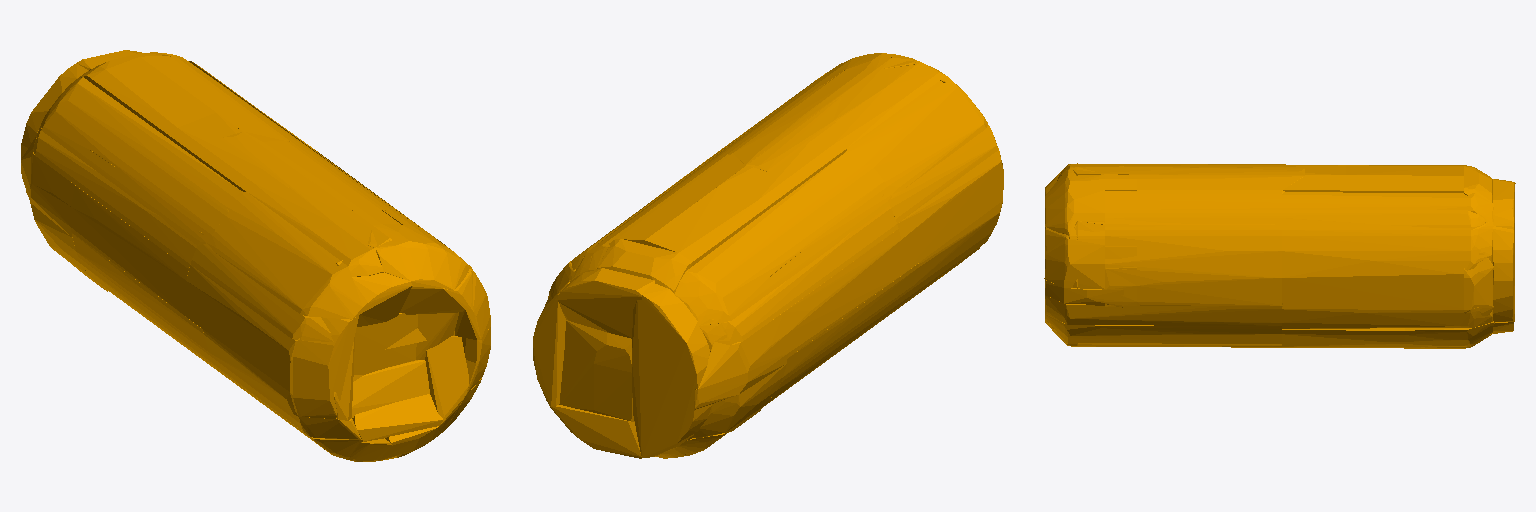
The robot description file, URDF, robot "can-monster":
<?xml version="1.0" ?>
<robot name="can-monster">
  <link name="baseLink">
    <contact>
      <lateral_friction value="1.0"/>
      <inertia_scaling value="3.0"/>
    </contact>
    <inertial>
      <origin rpy="0 0 0" xyz="0.000 0.000 0.000"/>
       <mass value=".1"/>
       <inertia ixx="1" ixy="0.0" ixz="0.0" iyy="1" iyz="0.0" izz="1"/>
    </inertial>
    <visual>
      <origin rpy="0 0 0" xyz="0 0 0"/>
      <geometry>
        <mesh filename="can/can-monster_blue.obj" scale="1.0 1.0 1.0"/>
      </geometry>
    </visual>
    <collision>
      <origin rpy="0 0 0" xyz="0 0 0"/>
      <geometry>
        <mesh filename="../collision/can/can-monster_blue.obj" scale="1.0 1.0 1.0"/>
      </geometry>
    </collision>
  </link>
</robot>
        

--- Facts derived from the render (not from the file) ---
The picture shows the robot from 3 angles, left to right: view 1: azimuth 30°, elevation 25°; view 2: azimuth 150°, elevation 25°; view 3: azimuth 270°, elevation 25°; orthographic projection.
Robot: can-monster — 1 links, 0 joints (none); root link baseLink; default pose: every joint at zero.
Visible links, largest first — view 1: baseLink; view 2: baseLink; view 3: baseLink.
Boxes of the visible links, <box> form: baseLink: <box>21,50,490,461</box>; baseLink: <box>533,53,1003,458</box>; baseLink: <box>1044,163,1515,348</box>.
Bounding box of the posed robot: 0.0655 × 0.169 × 0.0662 m (x, y, z).
1 mesh visuals loaded from 1 distinct referenced files (1 OBJ).